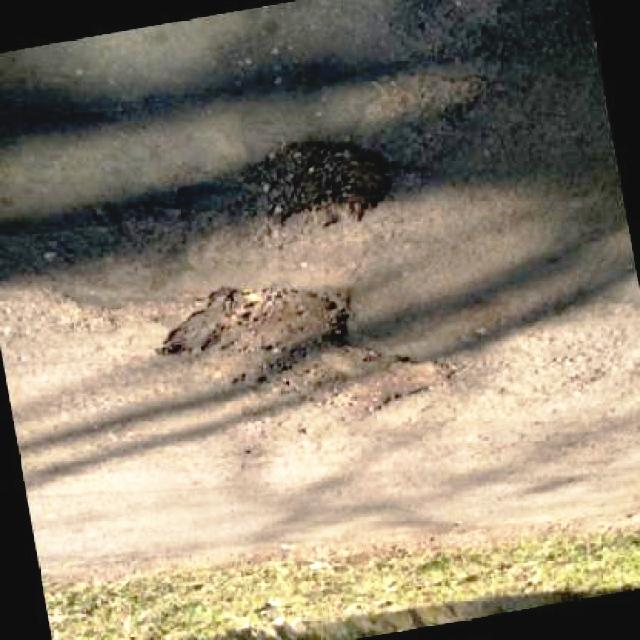pothole: (172, 286, 457, 431), (234, 134, 395, 246), (15, 277, 120, 340)
